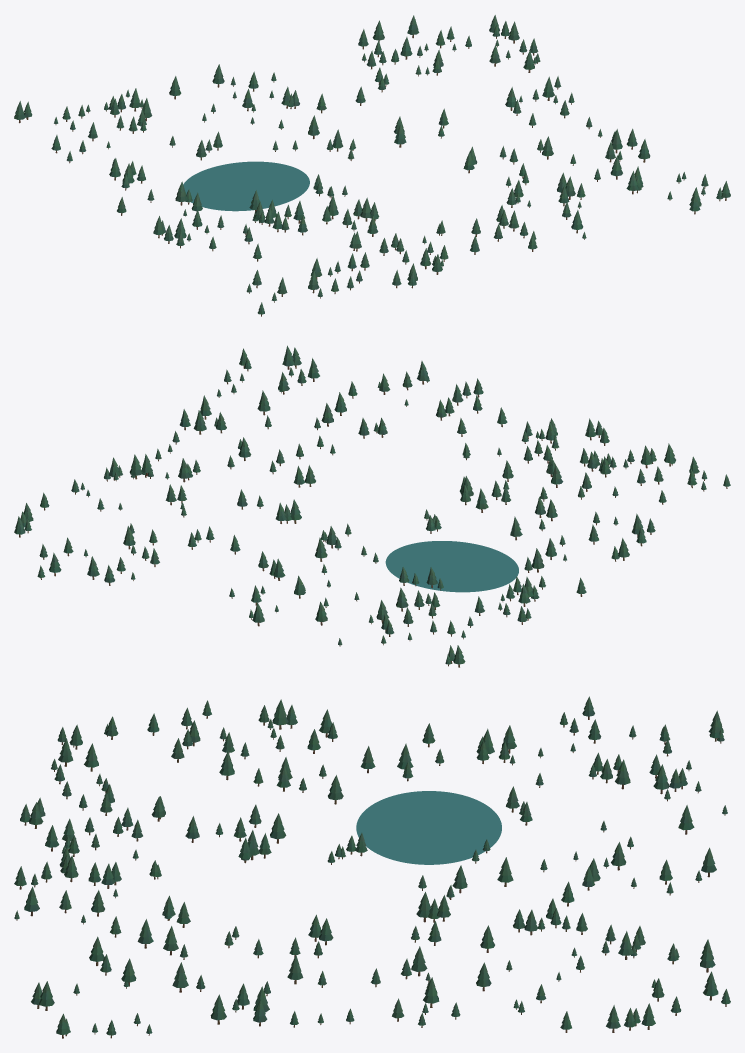
Rendered from valley-water-and-pines.glb.
3 views of the same model, one above another, from view 1: azimuth 30°, elevation 25°; view 2: azimuth 150°, elevation 25°; view 3: azimuth 270°, elevation 25° (orthographic). The views are drawn at different scales.
Parts seen in each view (by area): view 1: Pine groups on the ridgelines, Teal pond surface; view 2: Pine groups on the ridgelines, Teal pond surface; view 3: Pine groups on the ridgelines, Teal pond surface.
Part boxes in pixels (bbox=[...]): Pine groups on the ridgelines: bbox=[14, 15, 730, 316]; Teal pond surface: bbox=[183, 161, 309, 211]; Pine groups on the ridgelines: bbox=[14, 345, 730, 667]; Teal pond surface: bbox=[385, 541, 518, 592]; Pine groups on the ridgelines: bbox=[14, 696, 730, 1038]; Teal pond surface: bbox=[356, 791, 501, 864].
Bounding box in the file's own units: 99.27 × 11.69 × 98.33.
